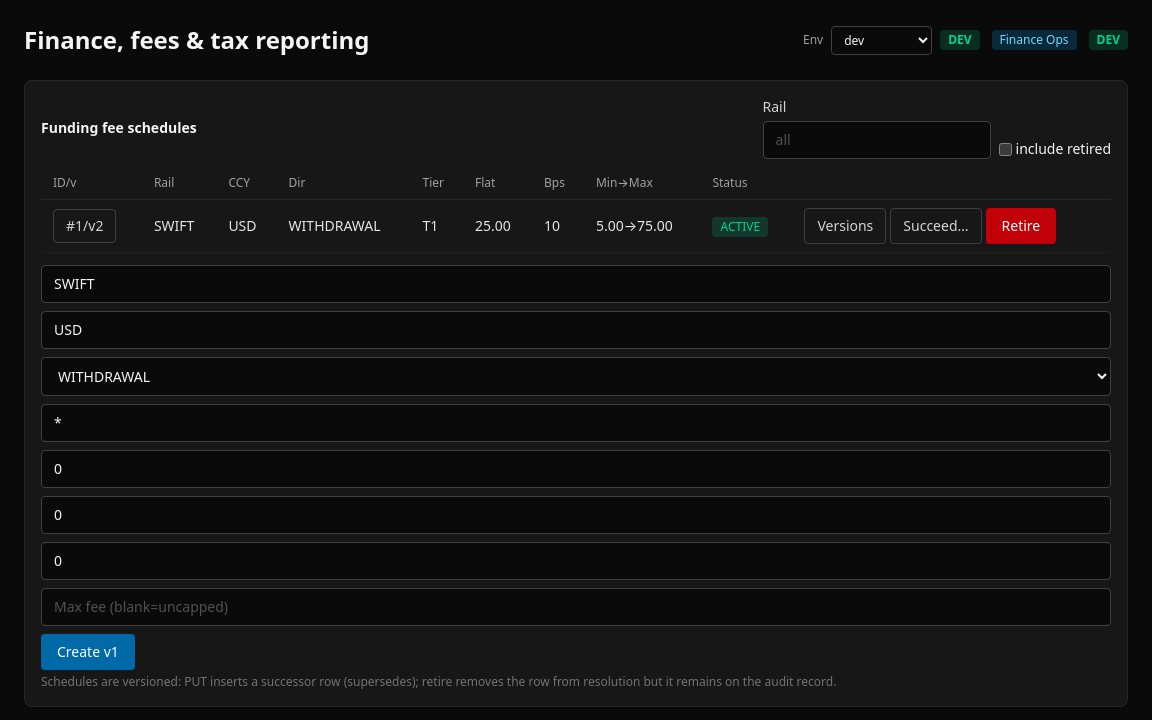
Test: FinancePage › inserts a successor version via PUT (supersedes, not in-place edit)
Expected: the text "SWIFT" is shown, [142,200,216,252]
Click the button "Succeed…": (936, 226) [890,208,982,244]
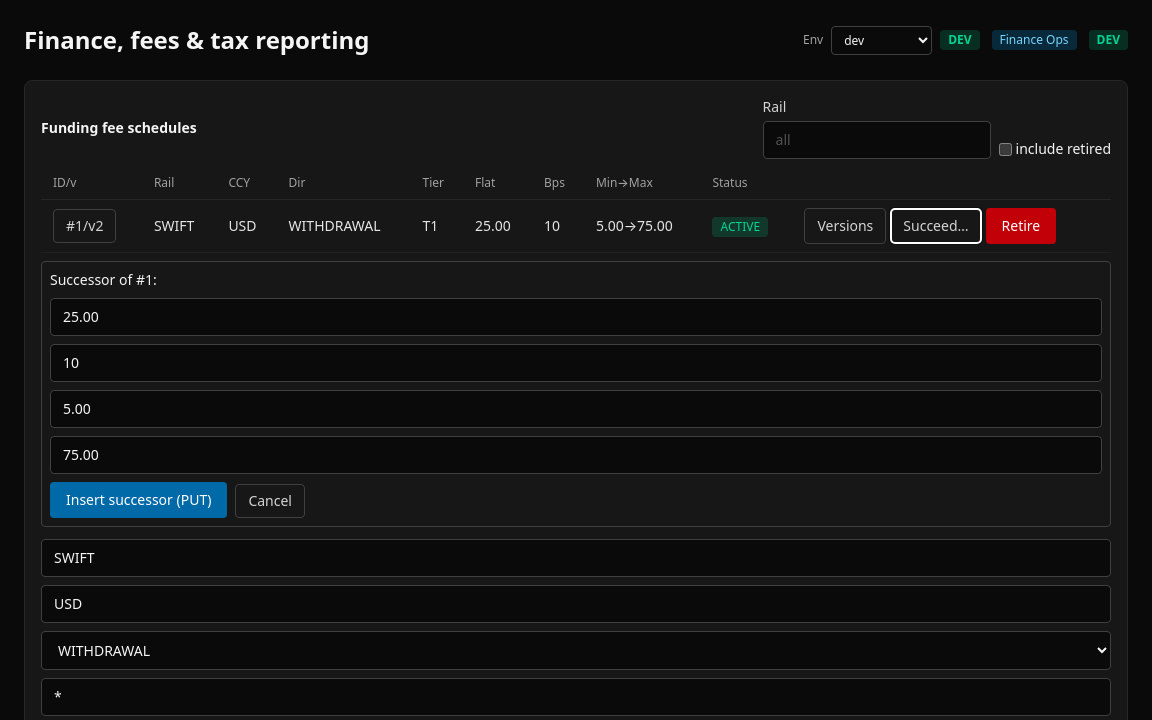
Replace the text in the field named "Flat fee" with "30.00": (576, 317) [50,298,1102,336]
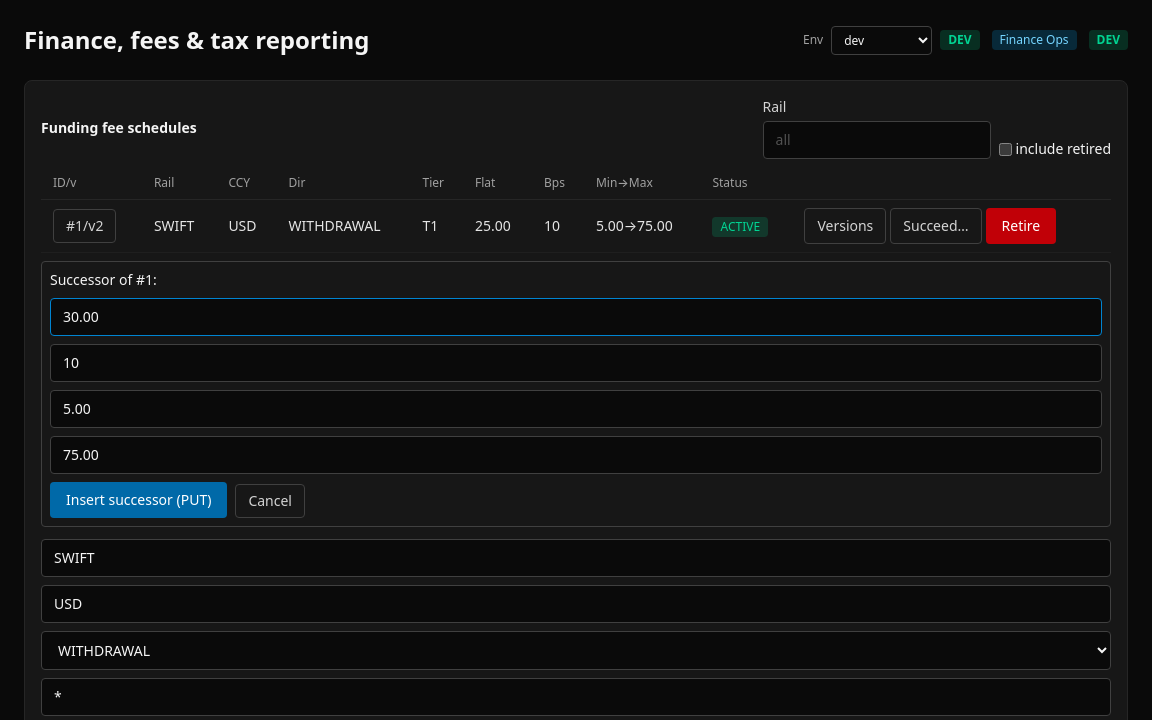
Click the button "Insert successor (PUT)": (139, 500) [50,482,227,518]
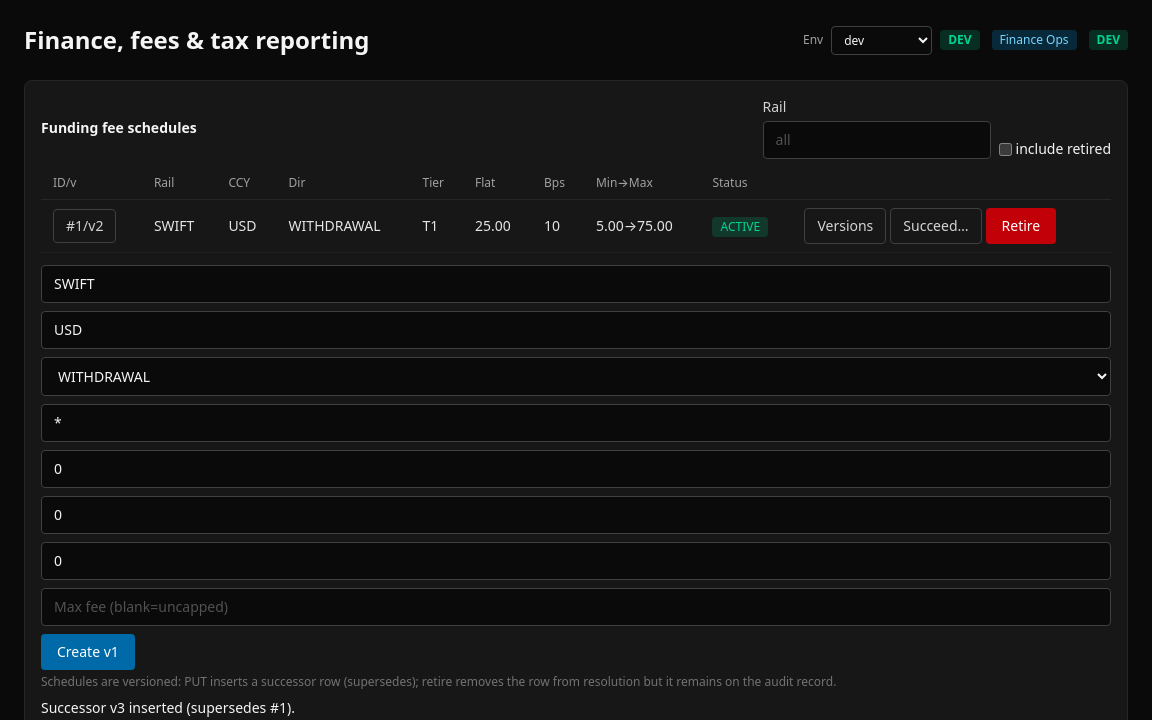
Now the text "Successor v3 inserted (supersedes #1)." is shown, box [41,698,295,717]
